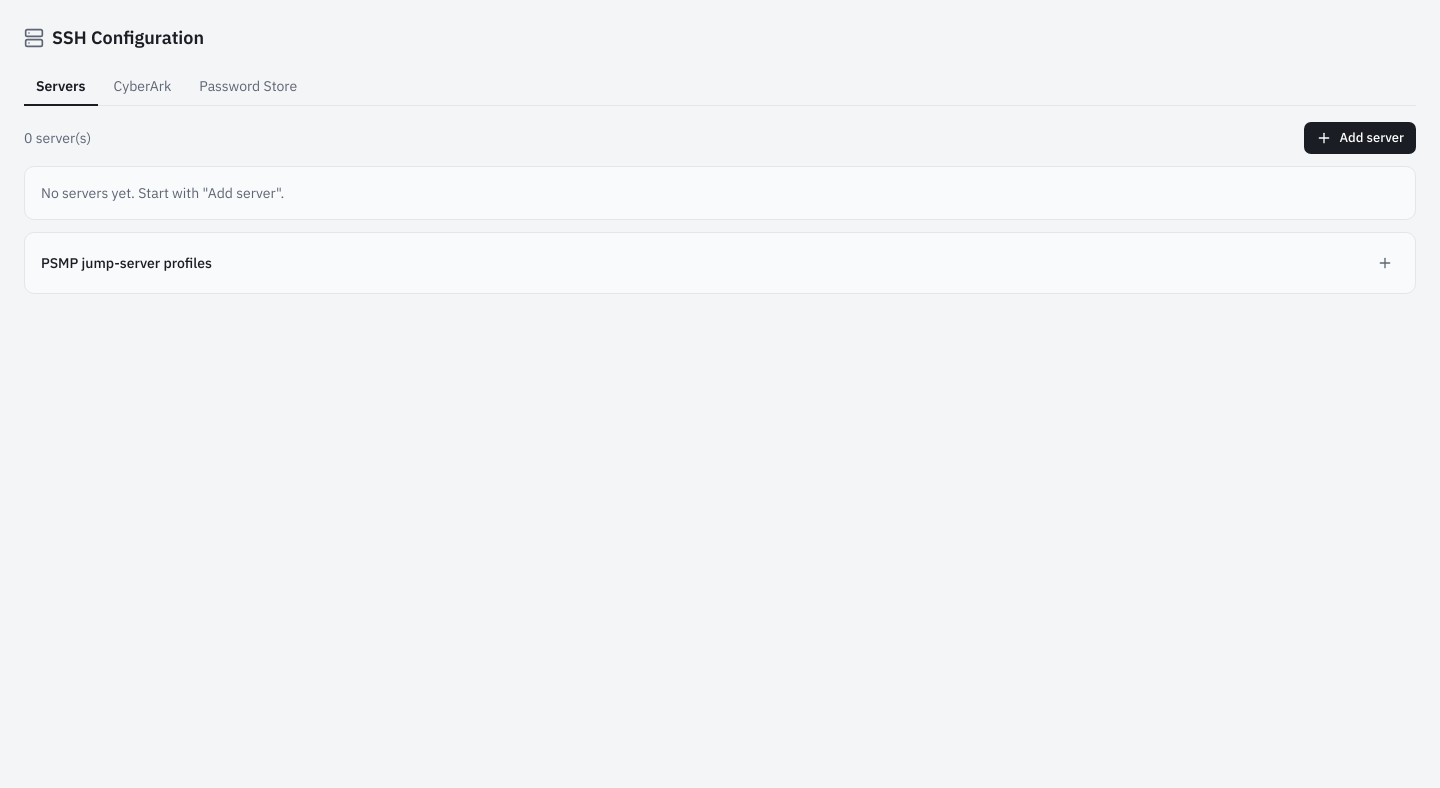
Test case: SshPage — Servers › rejects a duplicate (host,port,user) and surfaces the error
This screenshot has width=1440, height=788.
Expected: the text "No servers yet. Start with \"Add server\"." is shown, [24, 166, 1416, 220]
Click the button "Add server" at [1360, 138], box [1304, 122, 1416, 154]
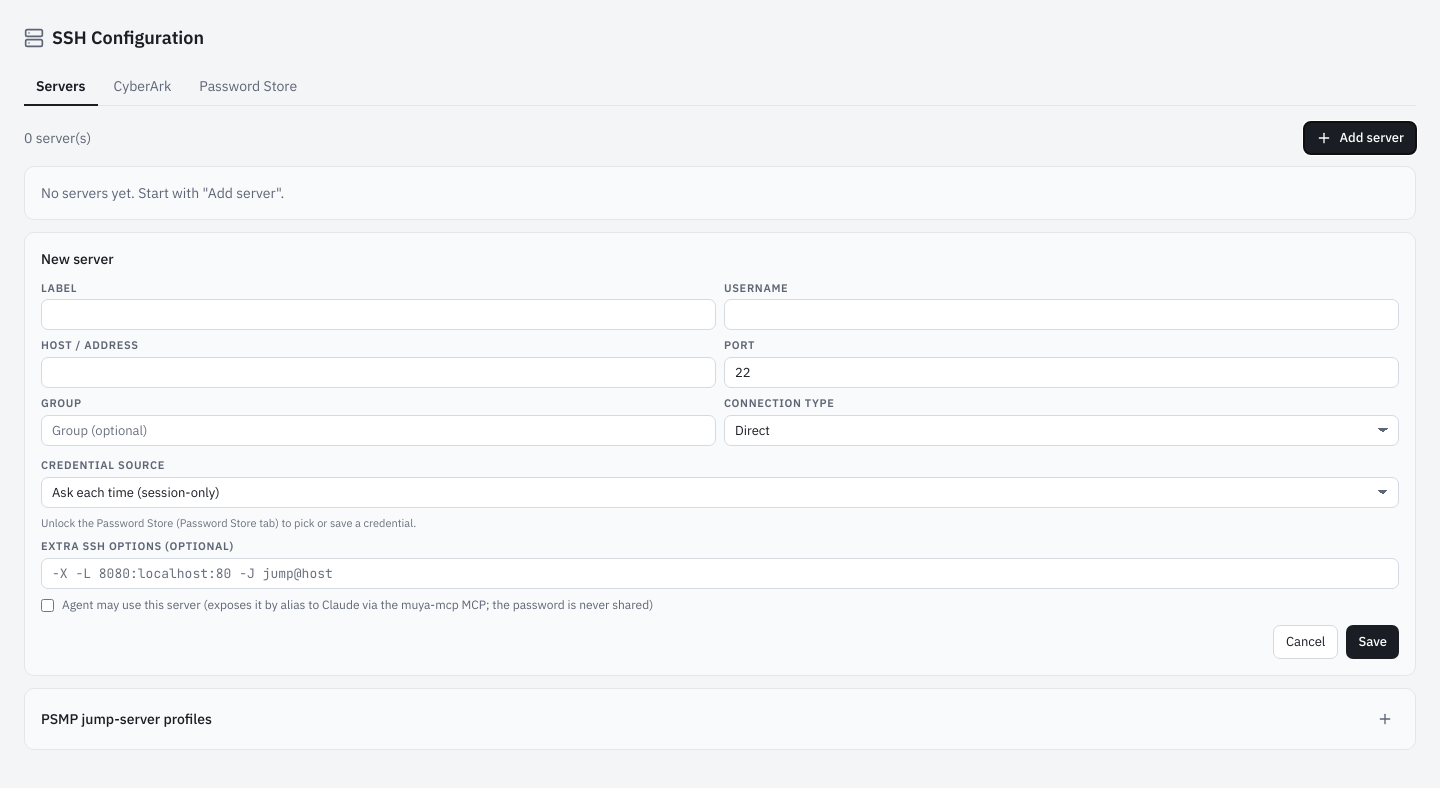
Type "oracle" into the field labelled "Username" at [1062, 315], box [724, 299, 1399, 330]
Type "10.0.0.5" into the field labelled "Host / address" at [378, 373], box [41, 357, 716, 388]
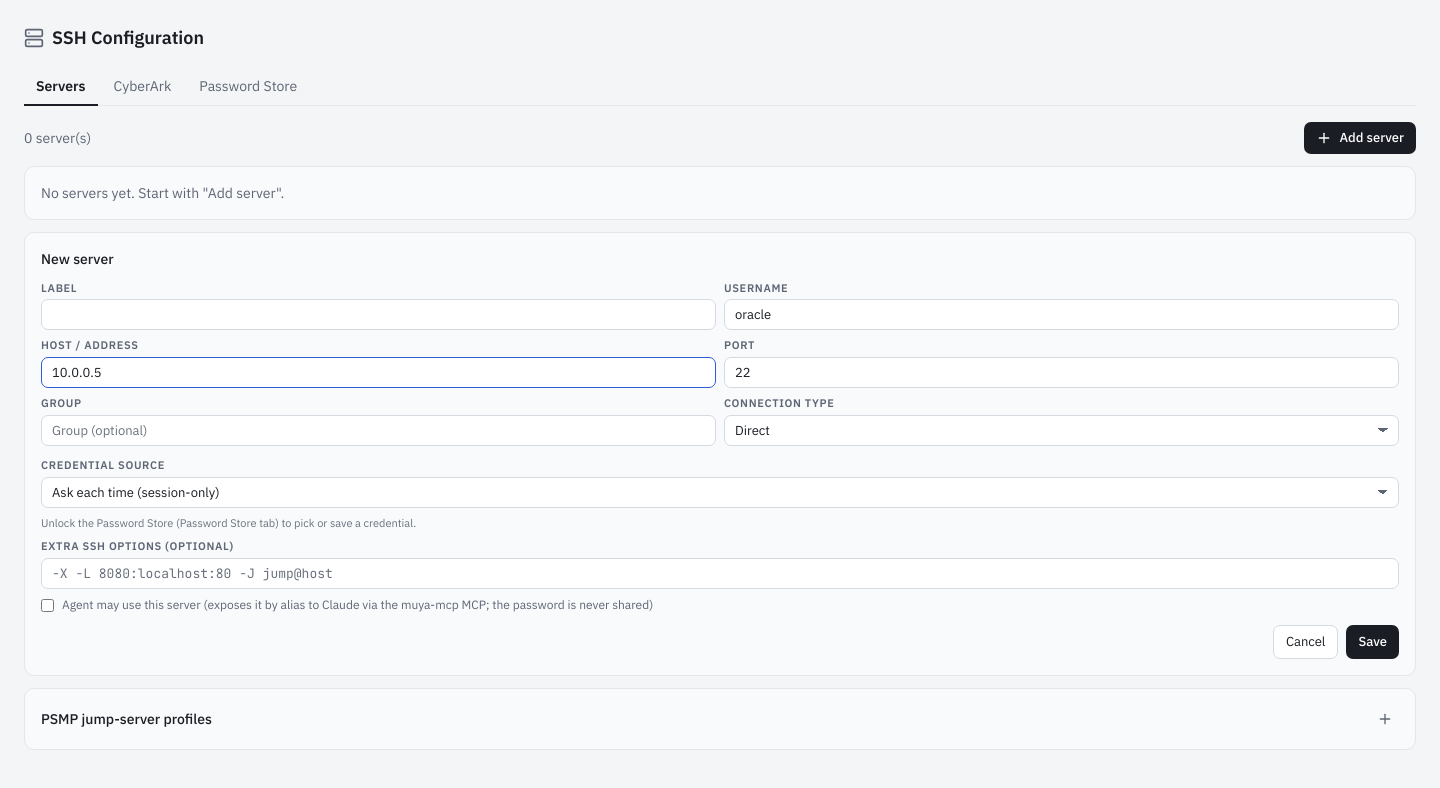
Click the button "Save" at [1373, 642], box [1346, 625, 1399, 659]
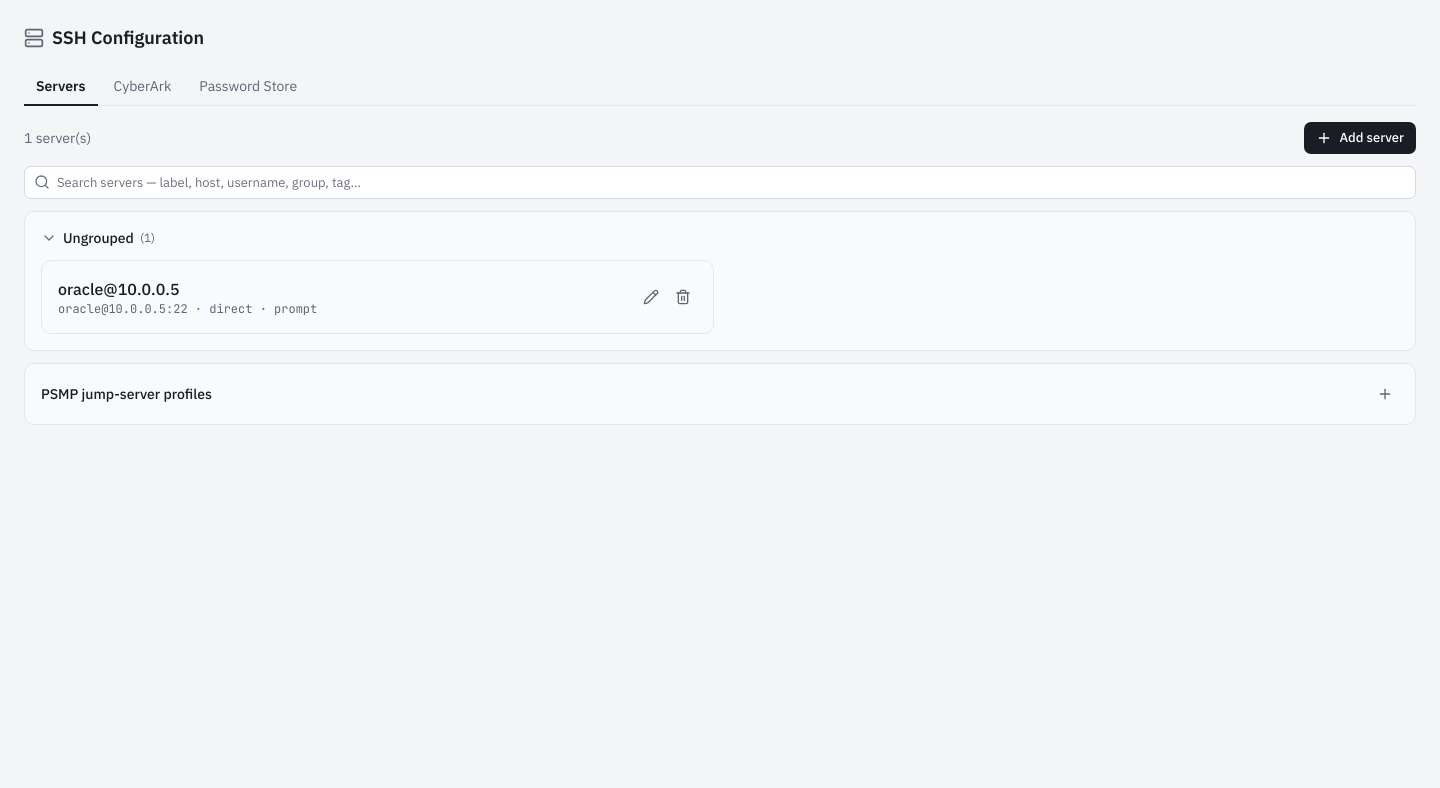
Expected: the text "oracle@10.0.0.5:22 · direct · prompt" is shown, [58, 301, 317, 317]
Click the button "Add server" at [1360, 138], box [1304, 122, 1416, 154]
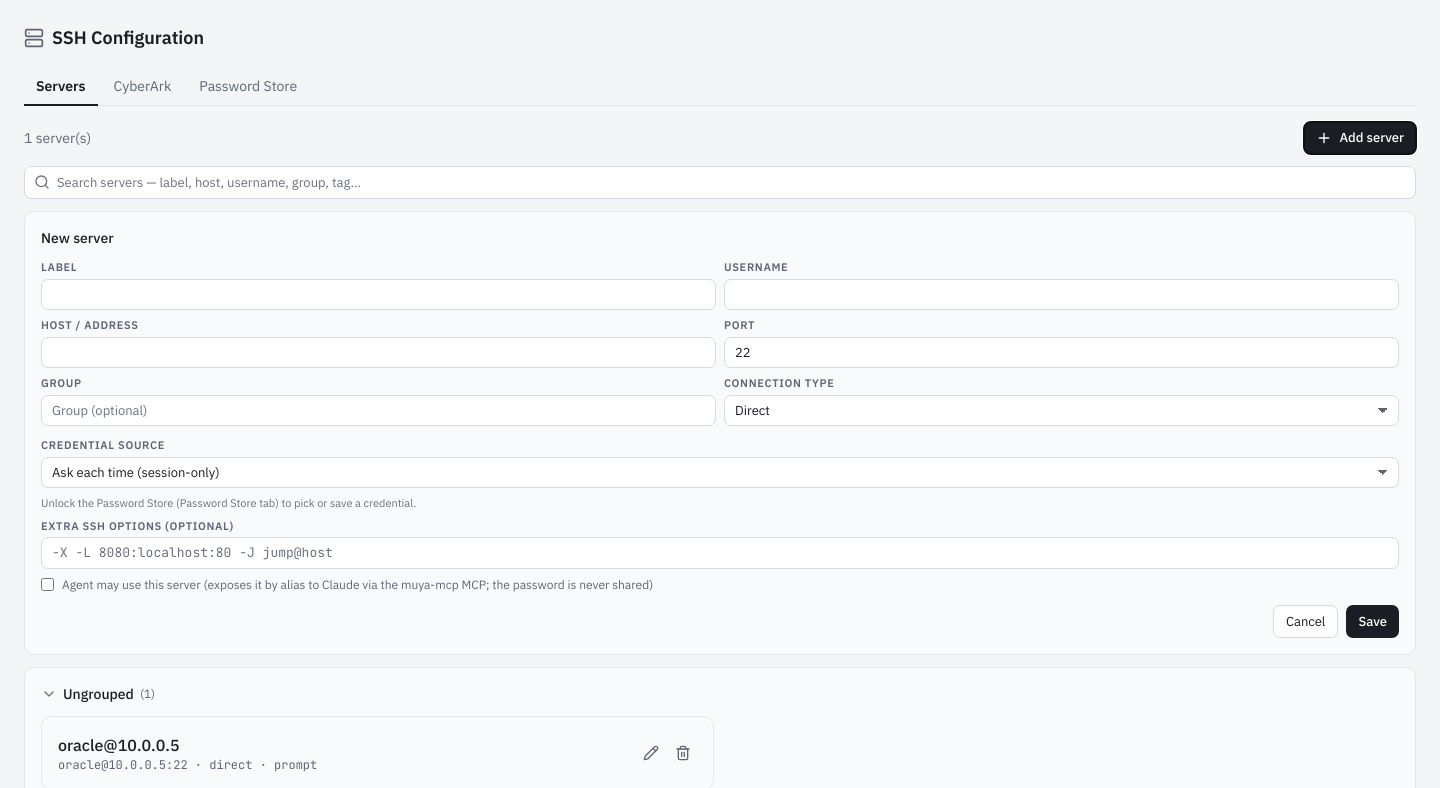
Type "oracle" into the field labelled "Username" at [1062, 294], box [724, 279, 1399, 310]
Type "10.0.0.5" into the field labelled "Host / address" at [378, 352], box [41, 337, 716, 368]
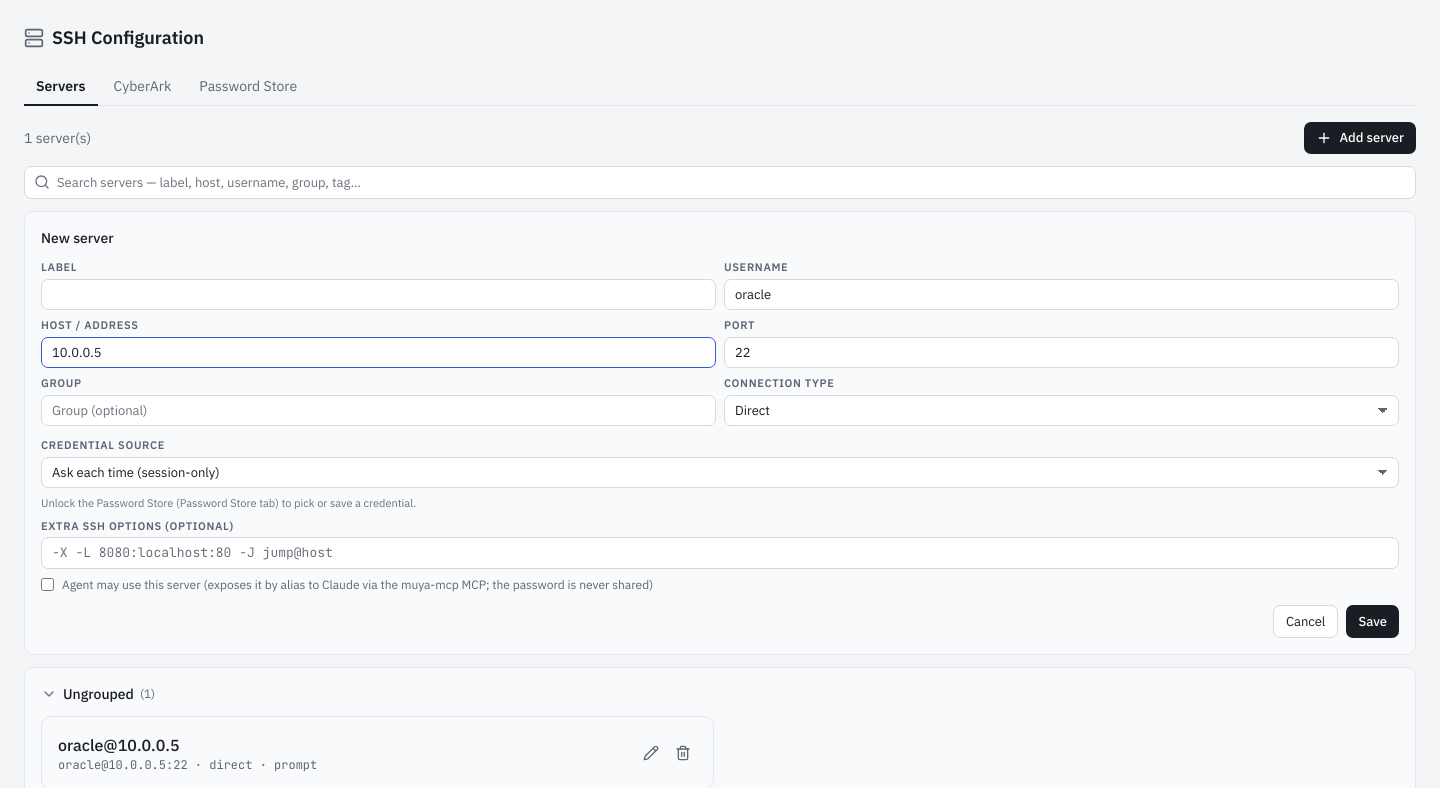
Click the button "Save" at [1373, 621], box [1346, 605, 1399, 638]
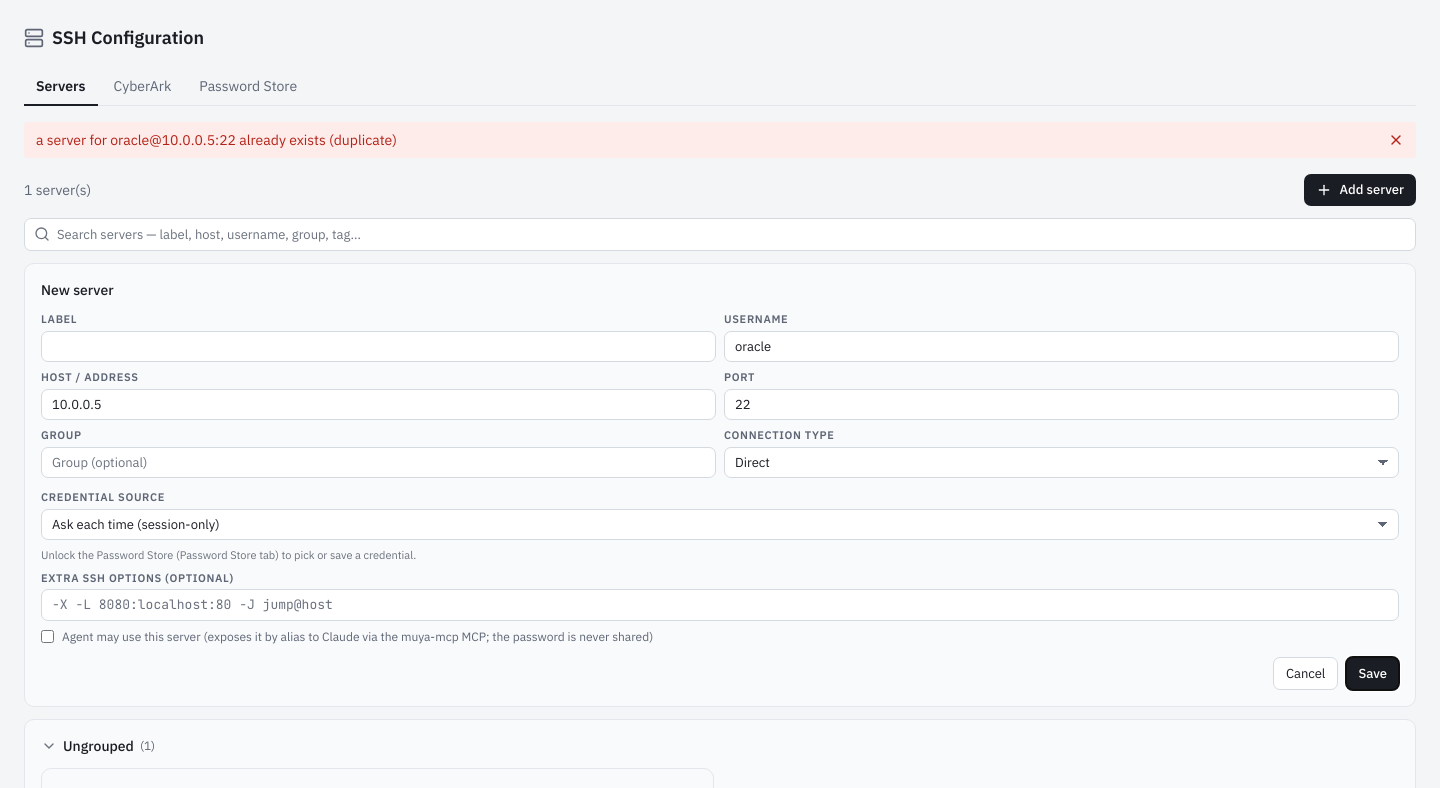
Expected: the text "a server for oracle@10.0.0.5:22 already exists (duplicate)" is shown, [36, 130, 397, 150]
